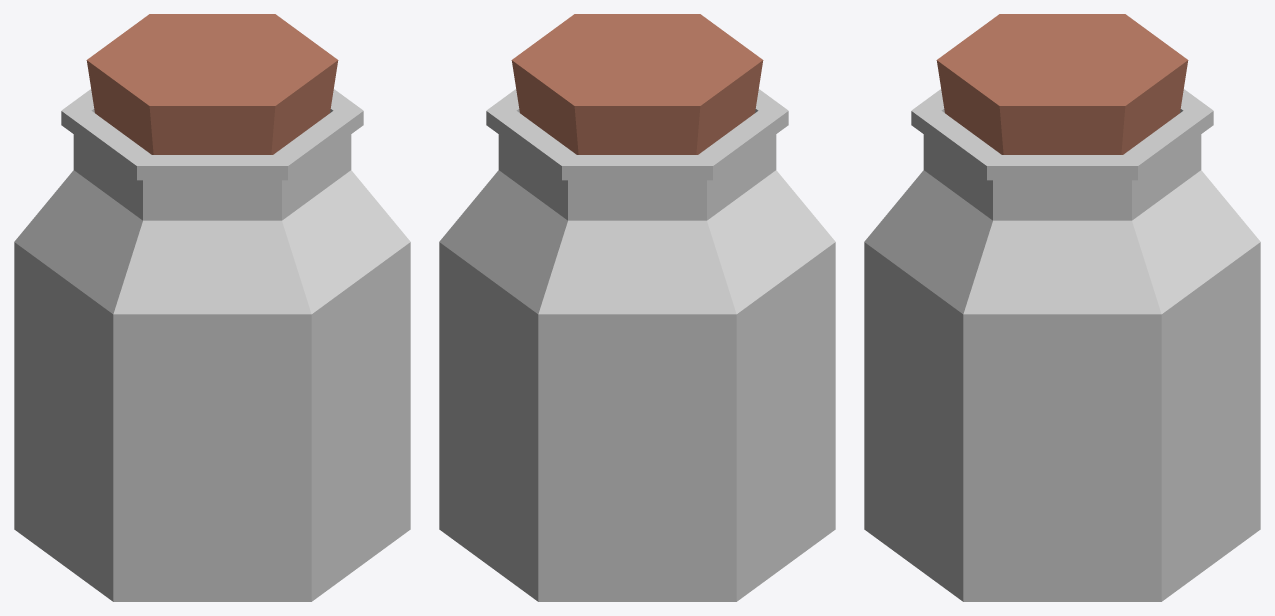
File: sand_element.fbx
3 views of the same model, side by side, from view 1: azimuth 30°, elevation 25°; view 2: azimuth 150°, elevation 25°; view 3: azimuth 270°, elevation 25° (orthographic).
Parts seen in each view (by area): view 1: sand_element; view 2: sand_element; view 3: sand_element.
Part boxes in pixels (x1=…): sand_element: x1=14, y1=14, x2=410, y2=601; sand_element: x1=439, y1=14, x2=835, y2=601; sand_element: x1=864, y1=14, x2=1260, y2=601.
Size of the model in its own units: 173 by 261 by 200.
